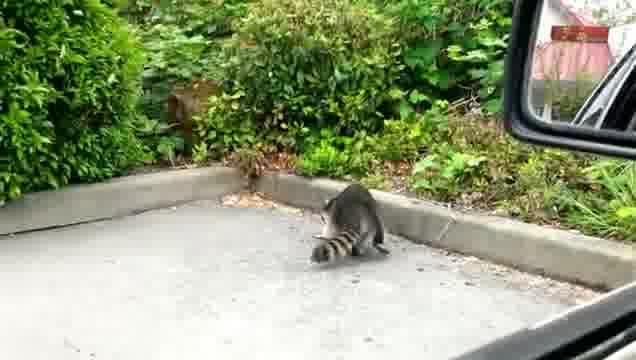raccoon: (312, 185, 392, 266)
